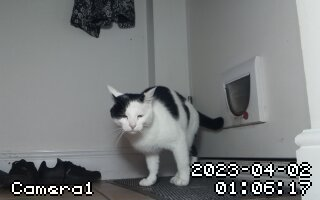bad: (105, 83, 229, 191)
